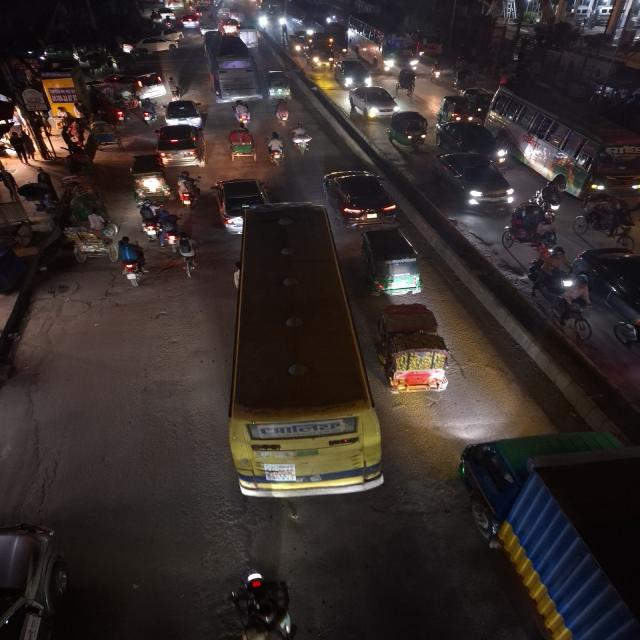bicycle: (173, 234, 200, 278)
bus: (220, 206, 380, 508), (490, 82, 640, 198), (202, 30, 259, 104), (347, 14, 421, 71)
car: (0, 518, 73, 640), (577, 245, 640, 367), (320, 166, 399, 228), (434, 150, 515, 210), (436, 119, 512, 163), (211, 176, 269, 231), (153, 123, 208, 169), (101, 68, 168, 101), (346, 84, 401, 120), (116, 27, 182, 56), (333, 57, 375, 89), (162, 98, 204, 127), (176, 10, 202, 30)
cng: (357, 227, 425, 299), (128, 153, 172, 199), (387, 109, 430, 153), (225, 126, 258, 166), (437, 93, 480, 123), (265, 68, 293, 103), (303, 42, 335, 72), (460, 86, 490, 116)
motorcycle: (524, 254, 592, 342), (224, 568, 303, 640), (136, 200, 183, 250), (115, 235, 146, 288), (116, 235, 146, 288), (533, 183, 563, 223), (288, 122, 316, 158), (174, 171, 200, 209), (266, 130, 288, 168), (229, 98, 254, 128), (270, 95, 293, 127), (138, 97, 158, 125), (109, 102, 130, 125)
pedestrian: (167, 73, 184, 101)
rickshaw: (374, 301, 454, 404), (501, 200, 559, 258), (580, 192, 637, 242), (61, 218, 118, 266), (128, 153, 173, 200), (225, 126, 258, 166), (86, 119, 123, 151), (396, 67, 420, 98)
